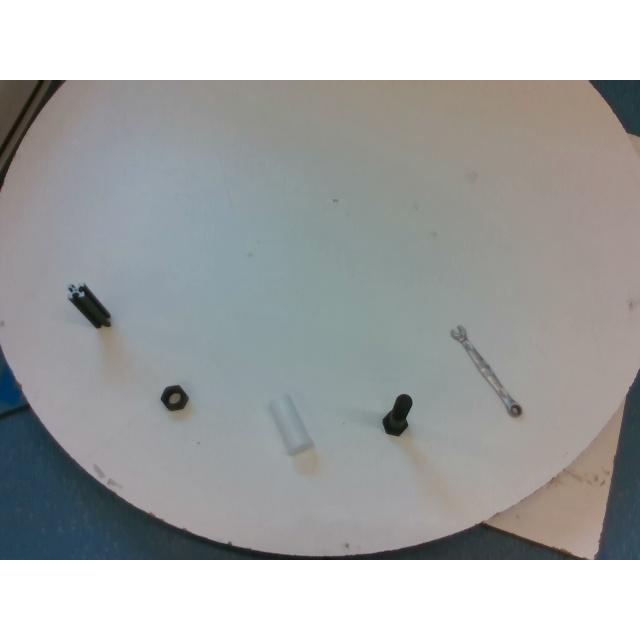F20_20_B: (68, 284, 110, 328)
M20: (160, 386, 188, 410)
M20_100: (382, 394, 412, 436)
Spacer: (270, 394, 314, 454)
Wrench: (450, 325, 522, 417)
